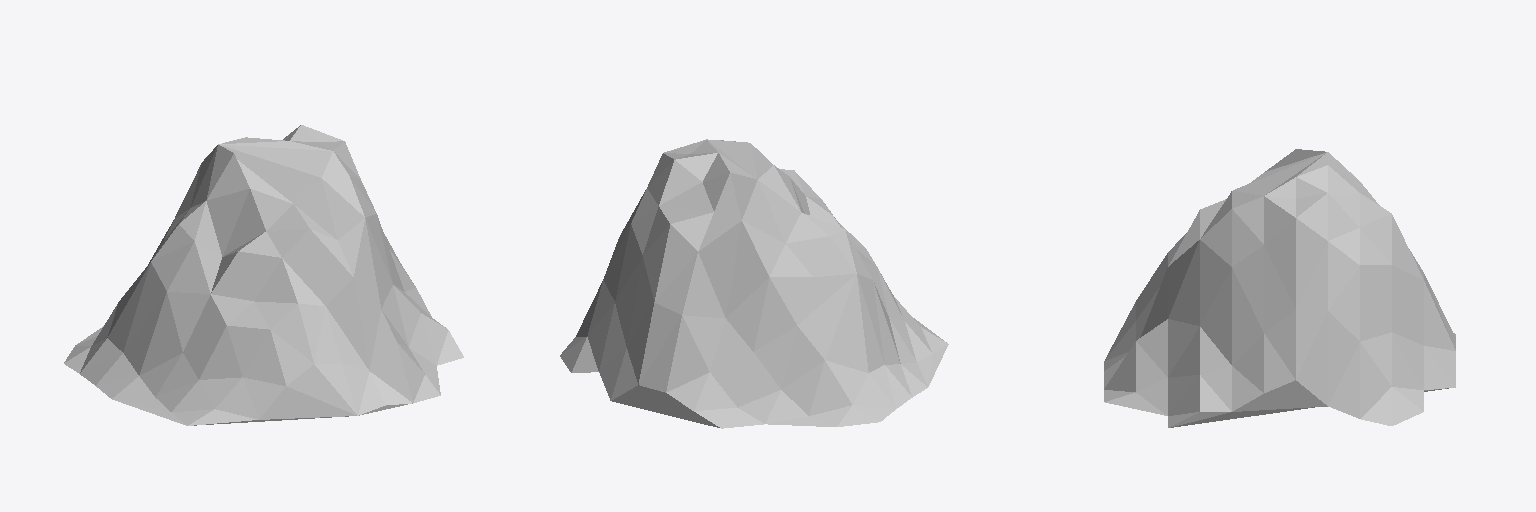
File: tree_3.obj
3 renders of one model, left to right at view 1: azimuth 30°, elevation 25°; view 2: azimuth 150°, elevation 25°; view 3: azimuth 270°, elevation 25°, orthographic.
Visible parts, largest first — view 1: tree_3_minus_dtm; view 2: tree_3_minus_dtm; view 3: tree_3_minus_dtm.
Boxes of the visible parts, x1=… form: tree_3_minus_dtm: x1=64, y1=125, x2=463, y2=425; tree_3_minus_dtm: x1=560, y1=139, x2=948, y2=428; tree_3_minus_dtm: x1=1104, y1=149, x2=1455, y2=427.
Size of the model in its own units: 11 by 6.91 by 11.